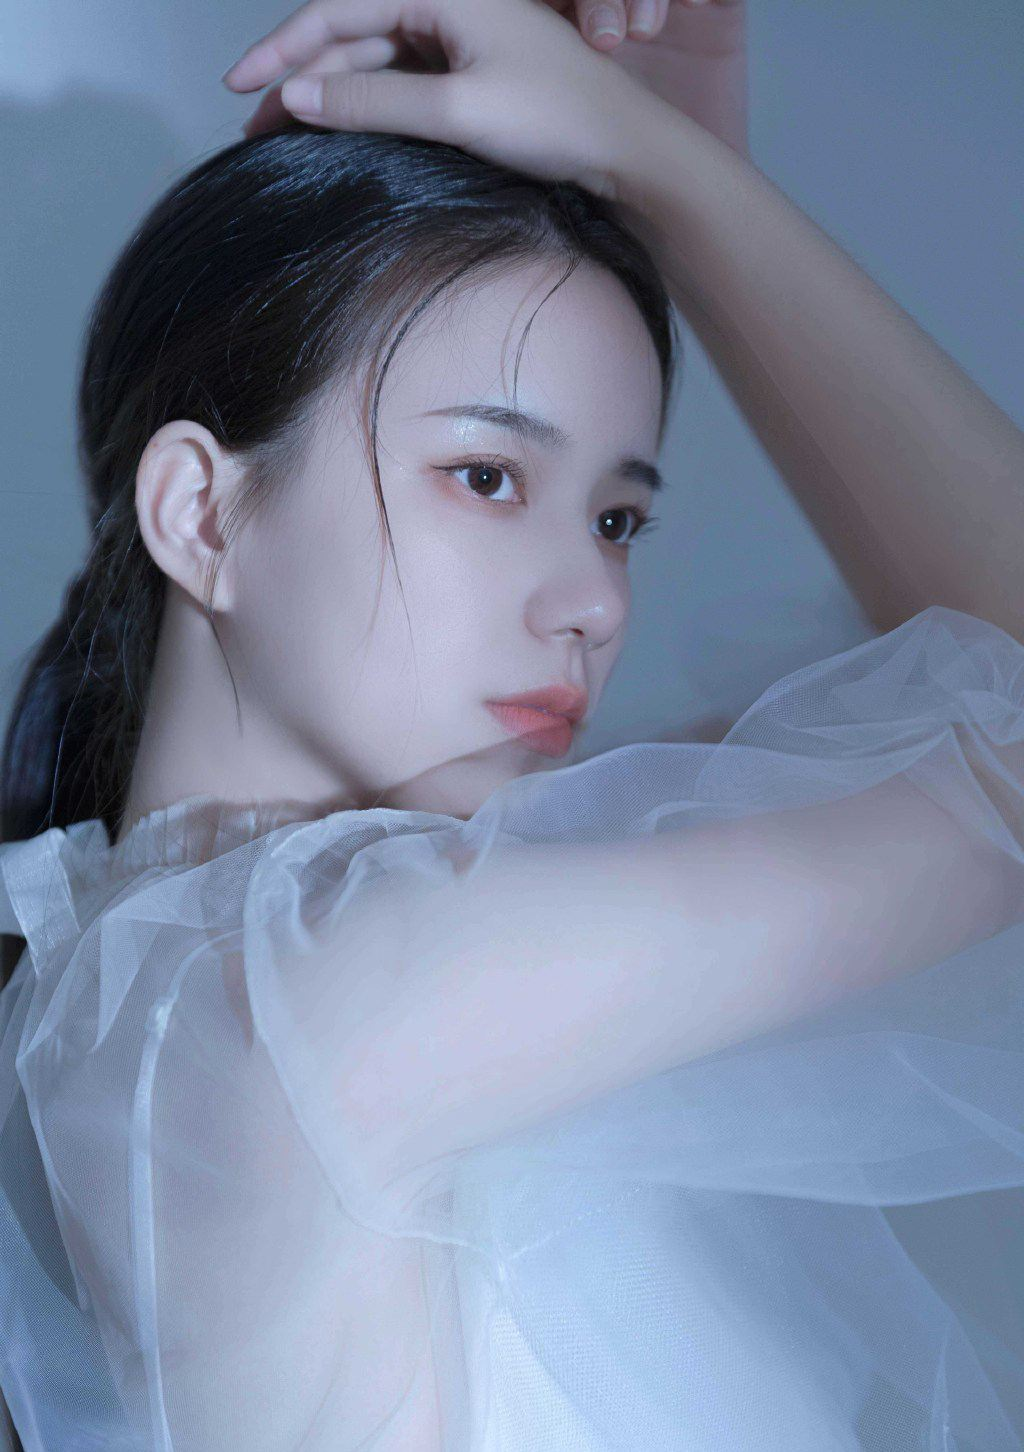person: (157, 87, 867, 1147)
